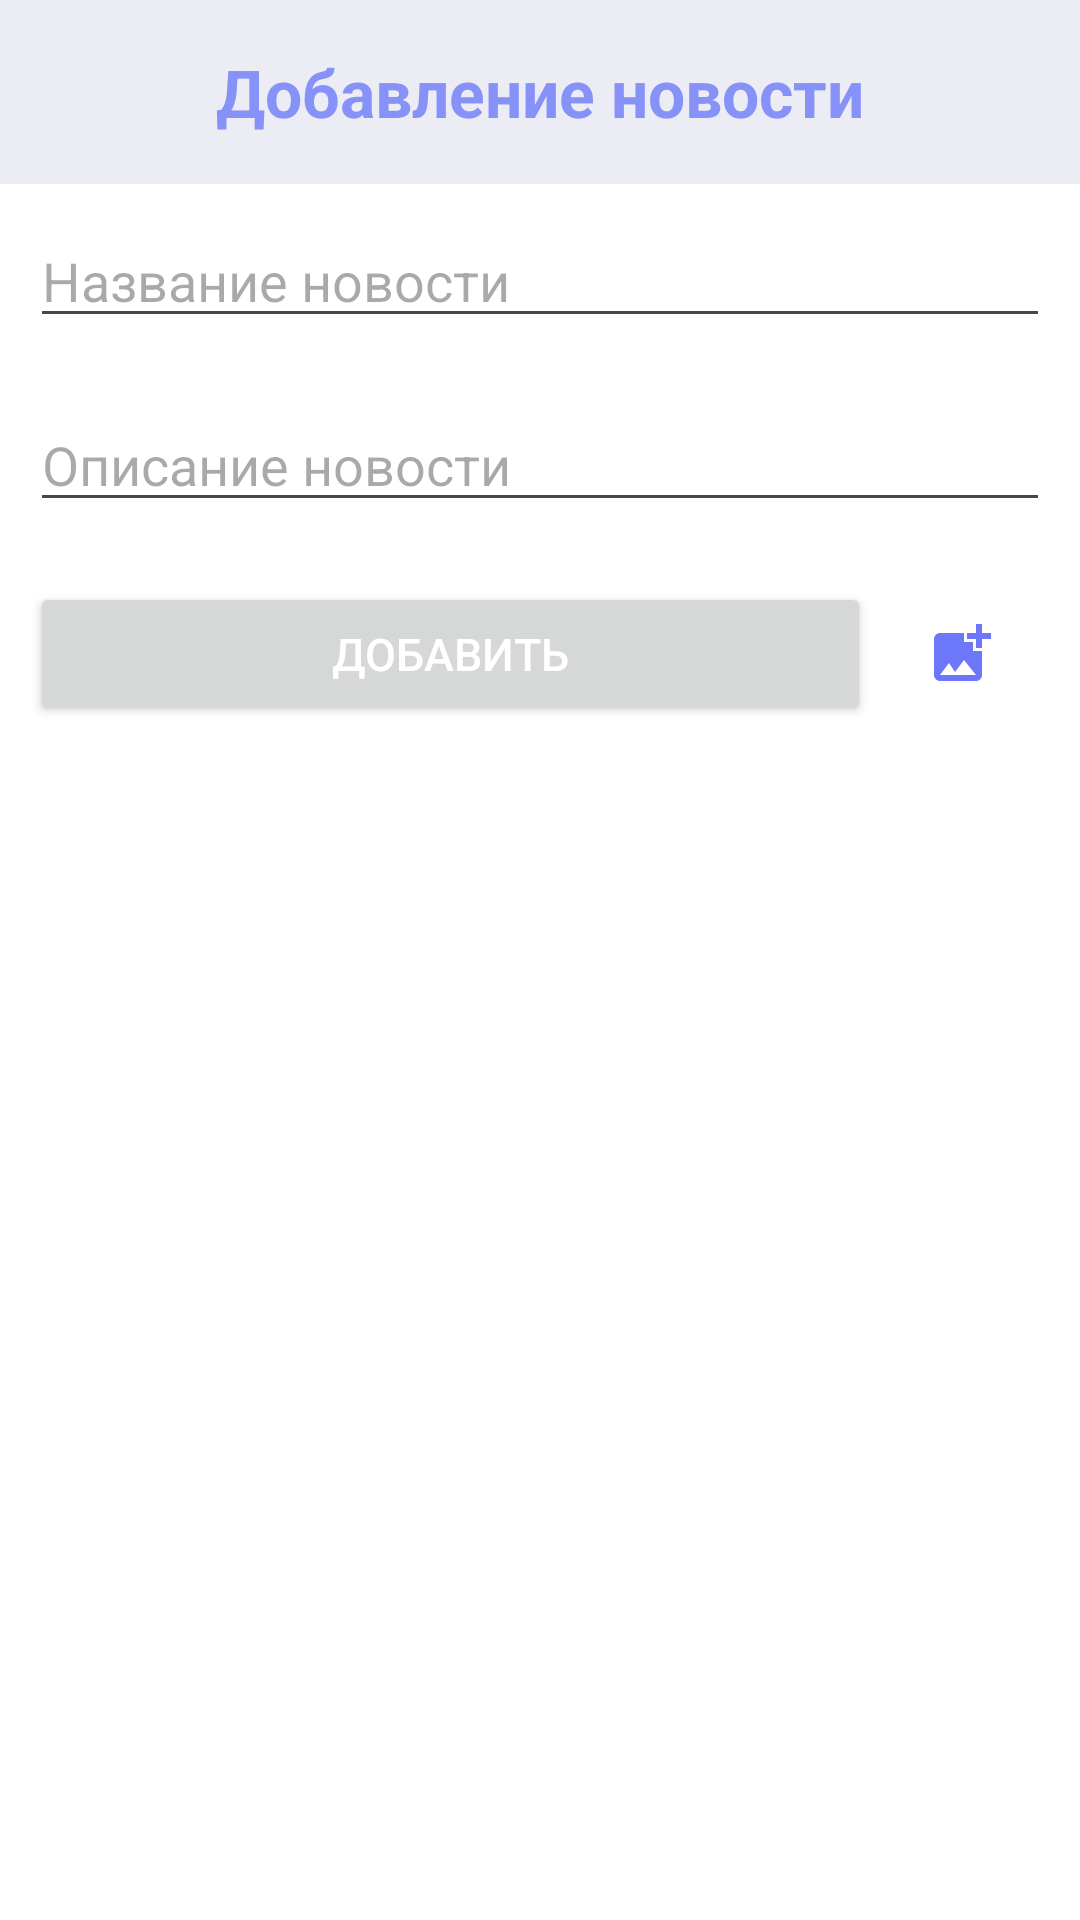

Icons on this 1080*1920 Android screen, each with the point to tap as (x=x, y=y):
add photo: (x=962, y=652)
